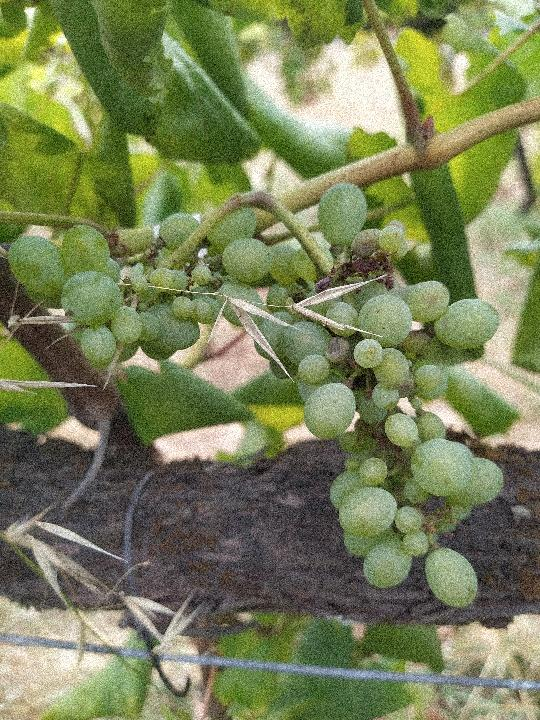grape: (4, 181, 512, 607)
